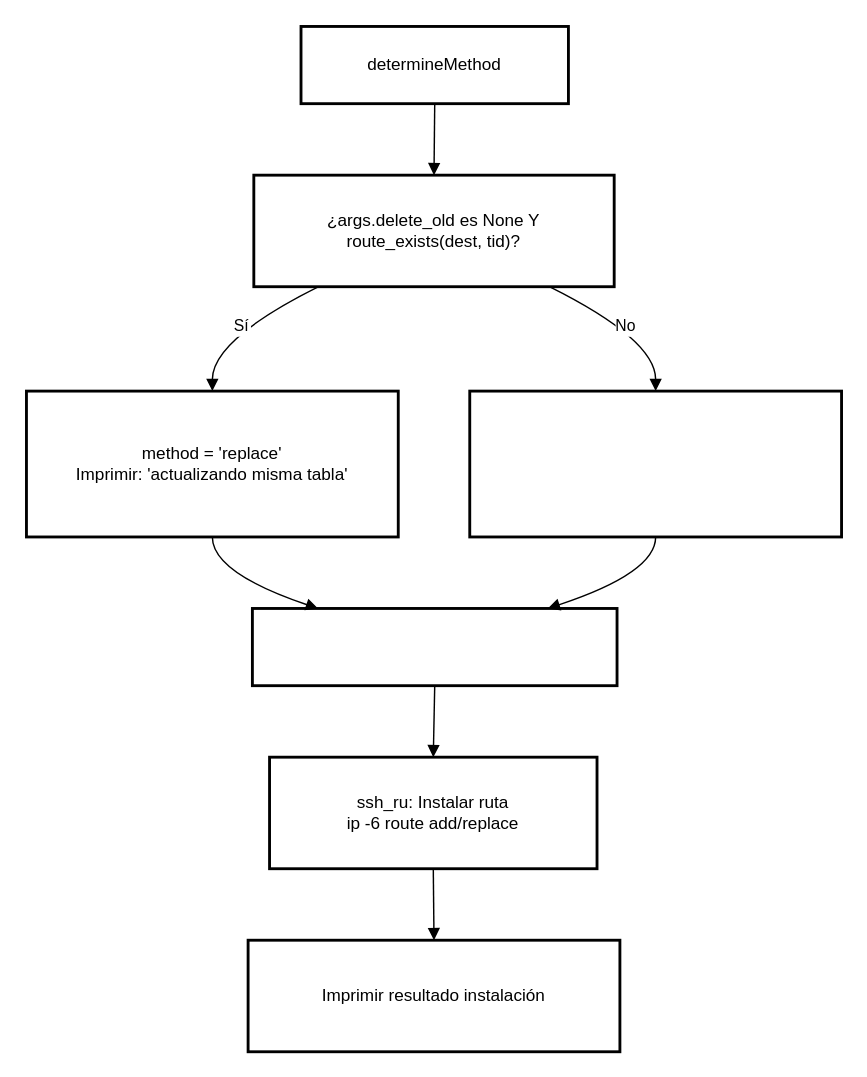
This 867x1077 diagram has some shape labels left out. Each missing label, with the centre of its shape:
Construir segs y cmd_route: point (434, 646)
method = 'add' Imprimir: 'nueva tabla o nuevo destino': point (655, 463)
